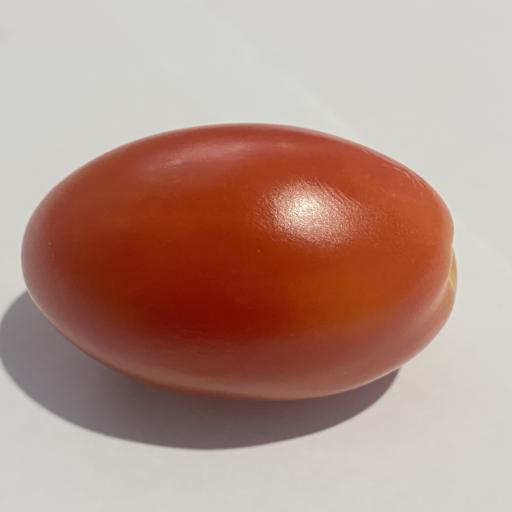ripe: (22, 124, 455, 400)
